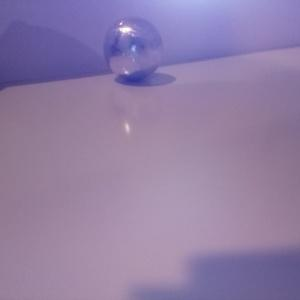alive_ball: (103, 17, 162, 79)
